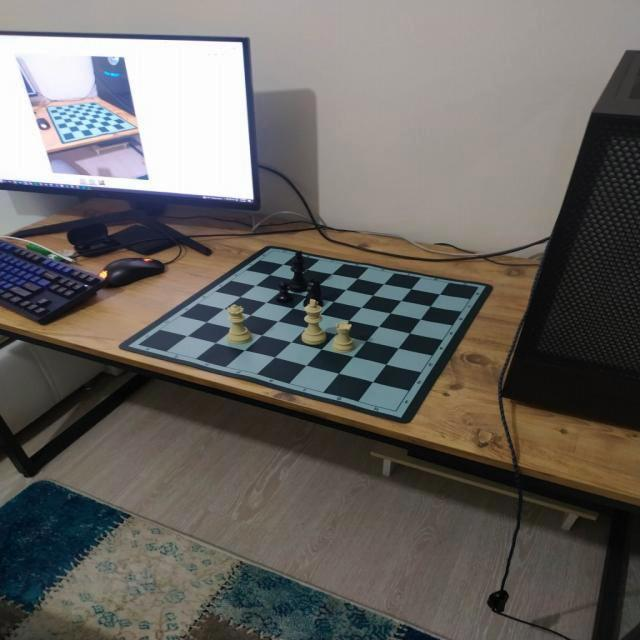chess-table-corners: (130, 338, 148, 351), (388, 404, 404, 418), (470, 282, 487, 293), (268, 246, 281, 256)
